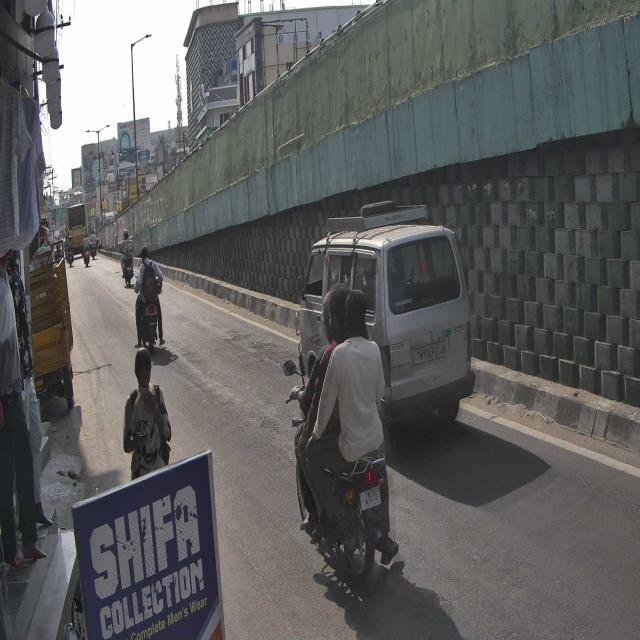triple_rider: (281, 277, 404, 581)
